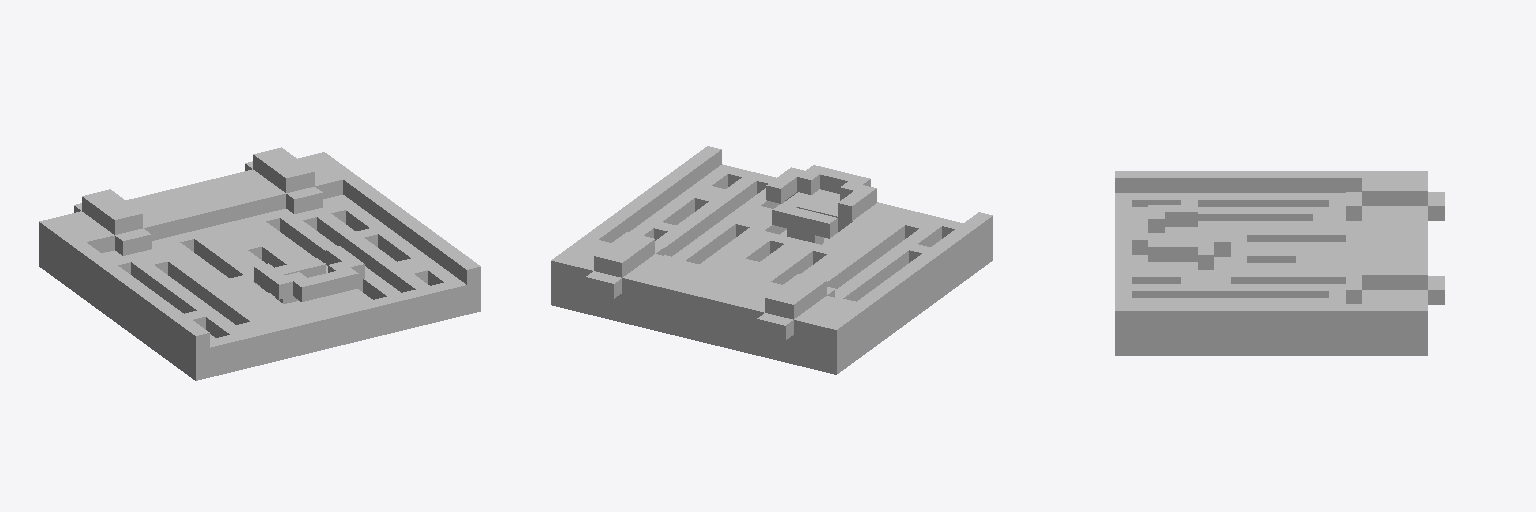
Rendered from Trap Door.obj.
3 renders of one model, left to right at view 1: azimuth 30°, elevation 25°; view 2: azimuth 150°, elevation 25°; view 3: azimuth 270°, elevation 25°, orthographic.
Parts seen in each view (by area): view 1: object 1; view 2: object 1; view 3: object 1.
Part boxes in pixels (x1,y1,x2,y2): object 1: (39,147,480,380); object 1: (551,146,992,374); object 1: (1115,171,1444,355).
Bounding box in the file's own units: 2 × 0.4 × 2.